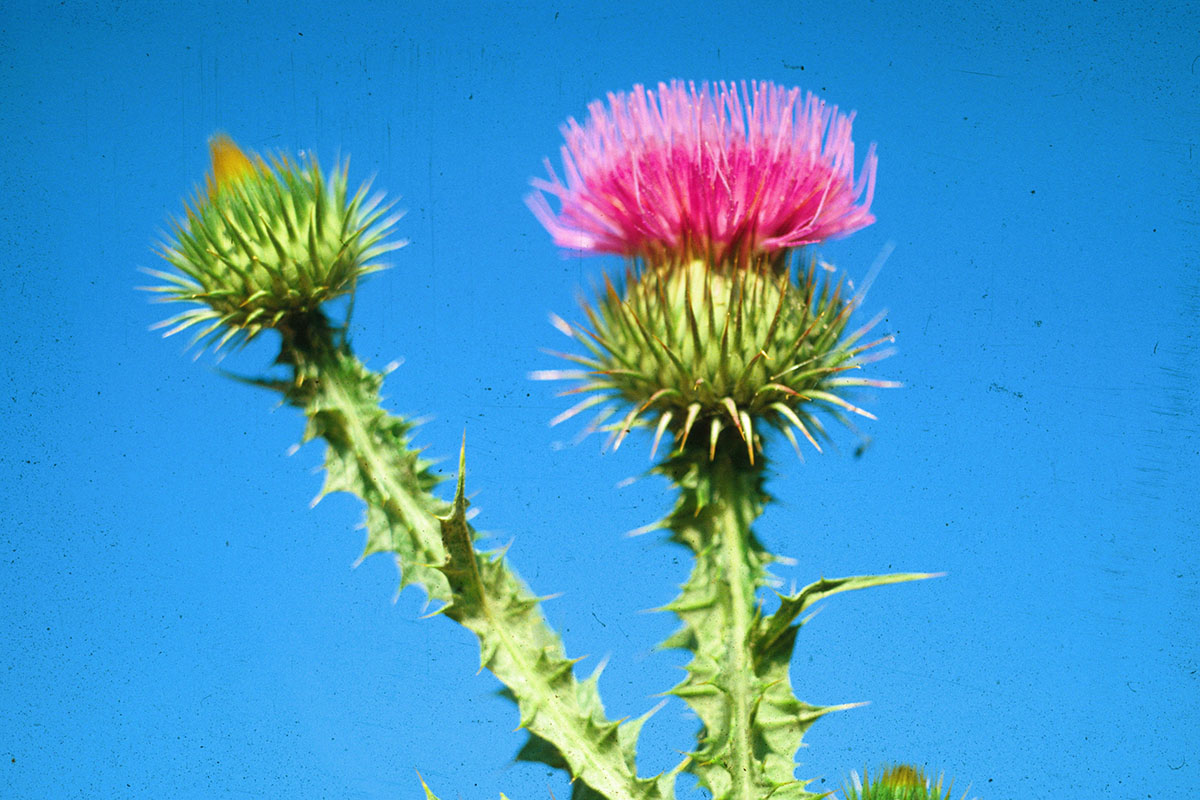thistle: (534, 75, 911, 453)
